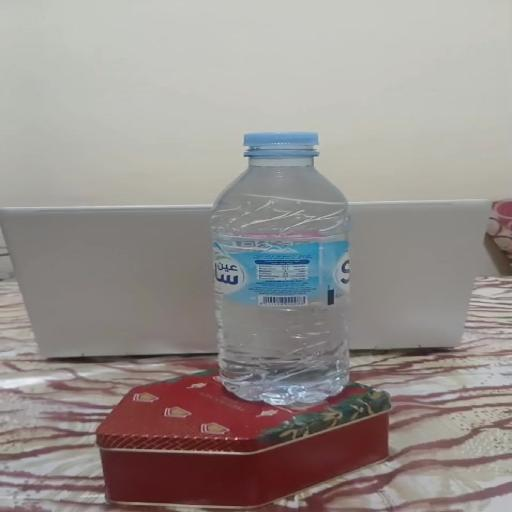bouteille conformite: (221, 283, 347, 404), (236, 134, 347, 267)
